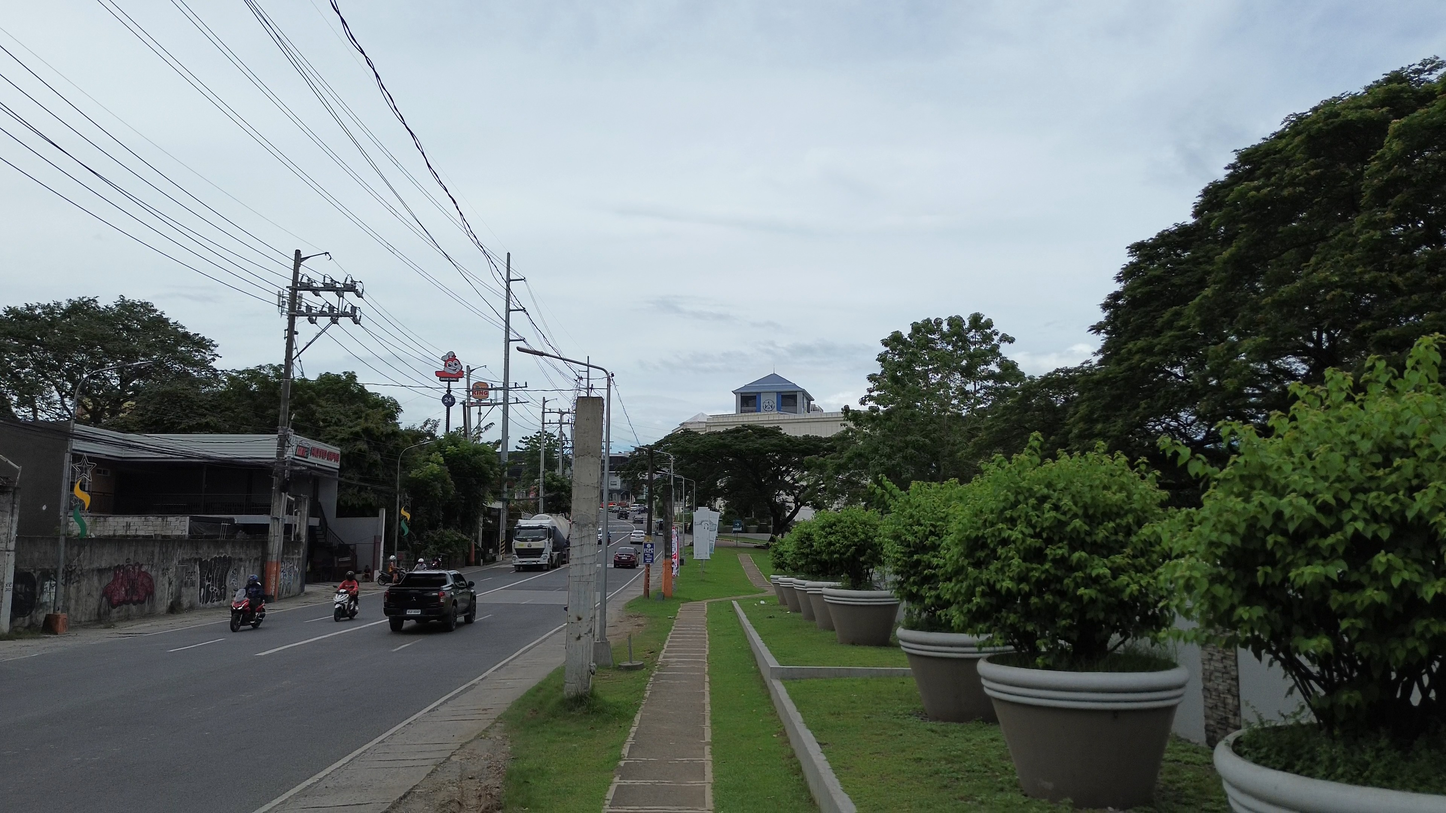car: (628, 529, 644, 542)
vehicle: (384, 571, 477, 631), (511, 514, 570, 570), (230, 588, 265, 632), (334, 589, 358, 622), (612, 546, 639, 568), (627, 529, 645, 543)
